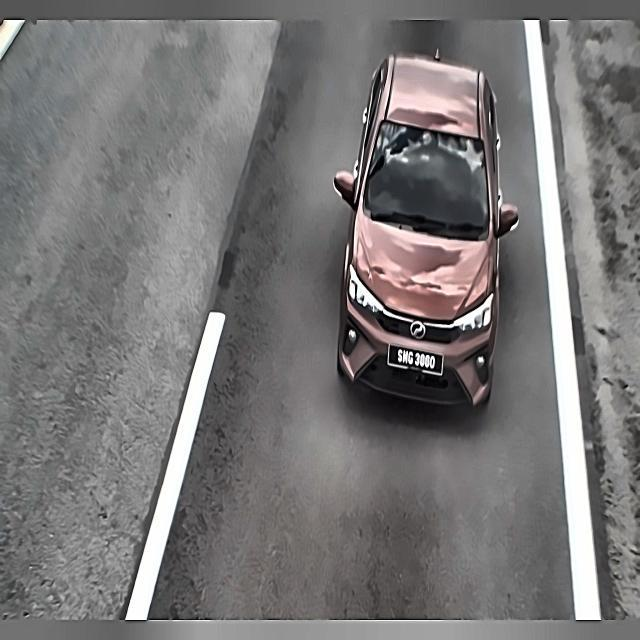car: (388, 340, 446, 379)
